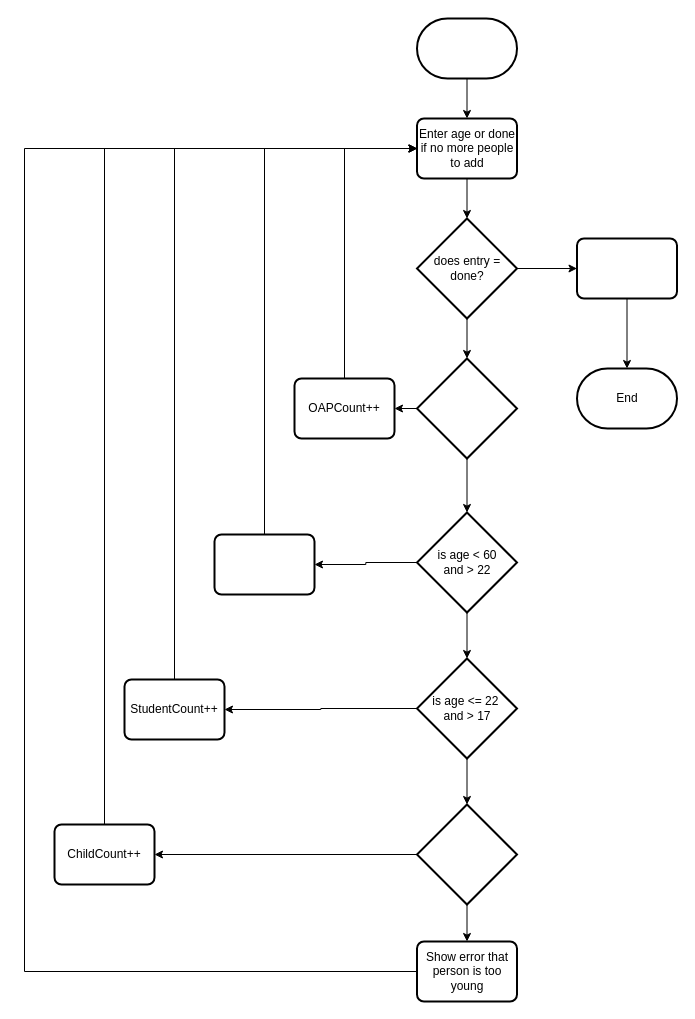
This 695x1019 diagram has some shape labels left out. Each missing label, with the centre of its shape:
AdultCount++: (x=264, y=564)
is age <= 17 and > 14: (x=467, y=854)
is age >= 60: (x=467, y=408)
Output total cost to user: (x=627, y=268)
Start: (x=467, y=48)
